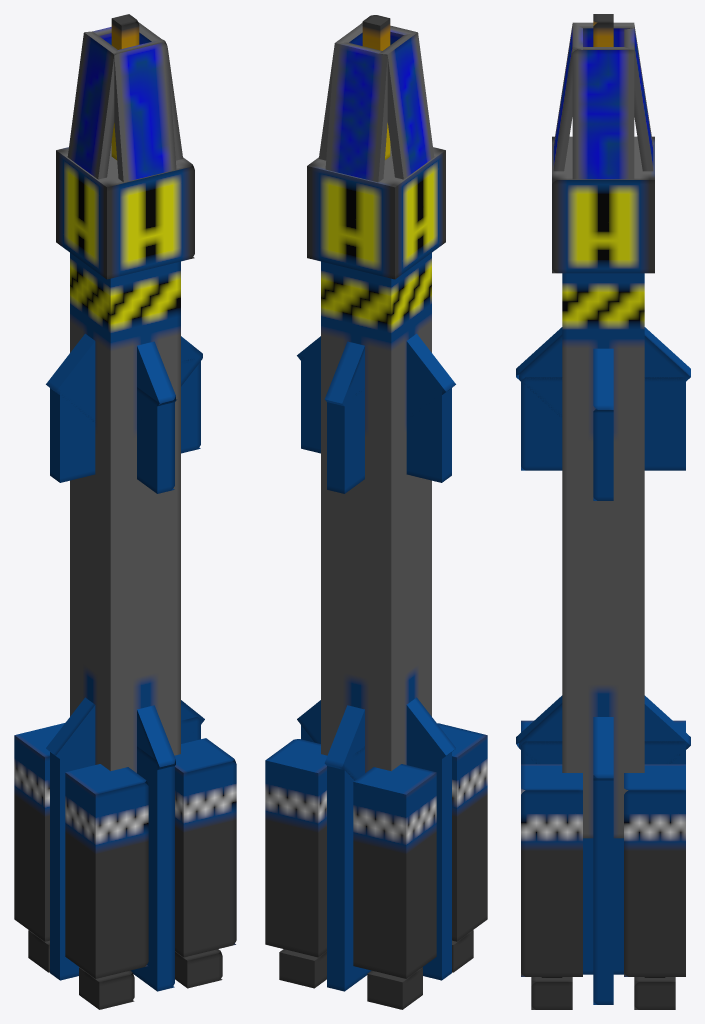
File: missile_exothermic.obj
3 views of the same model, side by side, from view 1: azimuth 30°, elevation 25°; view 2: azimuth 150°, elevation 25°; view 3: azimuth 270°, elevation 25° (orthographic).
Visible parts, largest first — view 1: MAIN_MODULE, MOTOR_MODULE_4, TOP, MOTOR_MODULE_2, Shape2b, MOTOR_MODULE_3, WING_1B, WING_4B, Shape1a, WING_2B, WING_3A, WING_4A (+8 smaller); view 2: MAIN_MODULE, MOTOR_MODULE_3, TOP, MOTOR_MODULE_1, Shape1d, MOTOR_MODULE_4, WING_1B, WING_4B, Shape1a, WING_2B, WING_3A, WING_2A (+8 smaller); view 3: MAIN_MODULE, MOTOR_MODULE_2, MOTOR_MODULE_1, TOP, Shape1c, WING_3A, WING_1B, WING_2B, WING_3B, WING_1A, WING_4B, Shape2b (+7 smaller).
Boxes of the visible parts, <box> form: MAIN_MODULE: <box>70,253,180,772</box>; MOTOR_MODULE_4: <box>65,764,148,978</box>; TOP: <box>56,143,194,279</box>; MOTOR_MODULE_2: <box>174,738,236,957</box>; Shape2b: <box>113,39,176,182</box>; MOTOR_MODULE_3: <box>14,723,64,941</box>; WING_1B: <box>130,746,174,991</box>; WING_4B: <box>50,359,200,482</box>; Shape1a: <box>67,31,117,179</box>; WING_2B: <box>50,717,200,980</box>; WING_3A: <box>137,387,174,493</box>; WING_4A: <box>46,333,202,421</box>; MAIN_MODULE: <box>321,253,431,772</box>; MOTOR_MODULE_3: <box>353,764,436,978</box>; TOP: <box>307,143,445,279</box>; MOTOR_MODULE_1: <box>265,739,327,957</box>; Shape1d: <box>325,42,387,182</box>; MOTOR_MODULE_4: <box>437,723,487,941</box>; WING_1B: <box>327,746,371,991</box>; WING_4B: <box>301,356,451,482</box>; Shape1a: <box>379,32,434,179</box>; WING_2B: <box>301,725,451,980</box>; WING_3A: <box>327,391,364,493</box>; WING_2A: <box>297,697,455,769</box>; MAIN_MODULE: <box>562,273,644,838</box>; MOTOR_MODULE_2: <box>521,764,582,976</box>; MOTOR_MODULE_1: <box>624,764,685,976</box>; TOP: <box>552,136,654,273</box>; Shape1c: <box>572,47,634,179</box>; WING_3A: <box>521,377,685,470</box>; WING_1B: <box>521,741,685,974</box>; WING_2B: <box>593,775,613,1004</box>; WING_3B: <box>516,327,690,416</box>; WING_1A: <box>516,695,690,763</box>; WING_4B: <box>593,409,613,500</box>; Shape2b: <box>553,23,582,171</box>.
Size of the model in its own units: 1.06 by 6.44 by 1.06.
